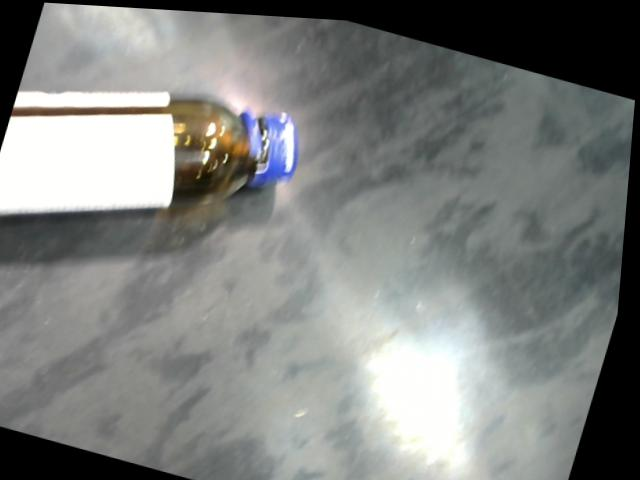bottle: (0, 90, 302, 215)
